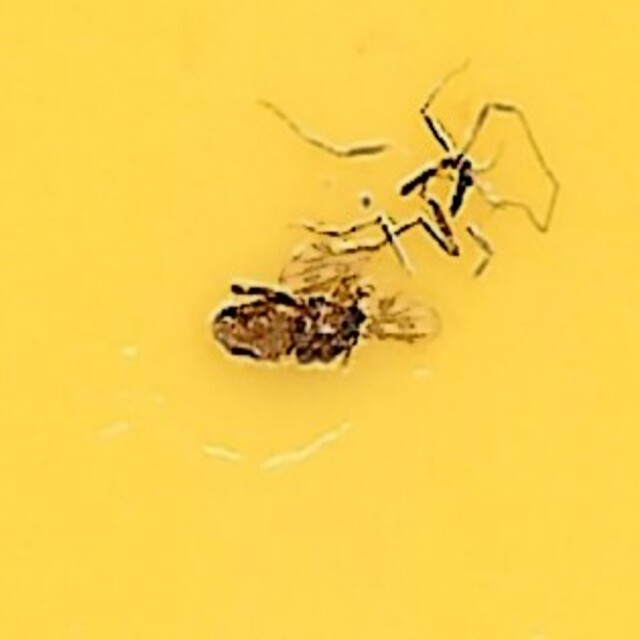Nematocera: (203, 242, 437, 398)
